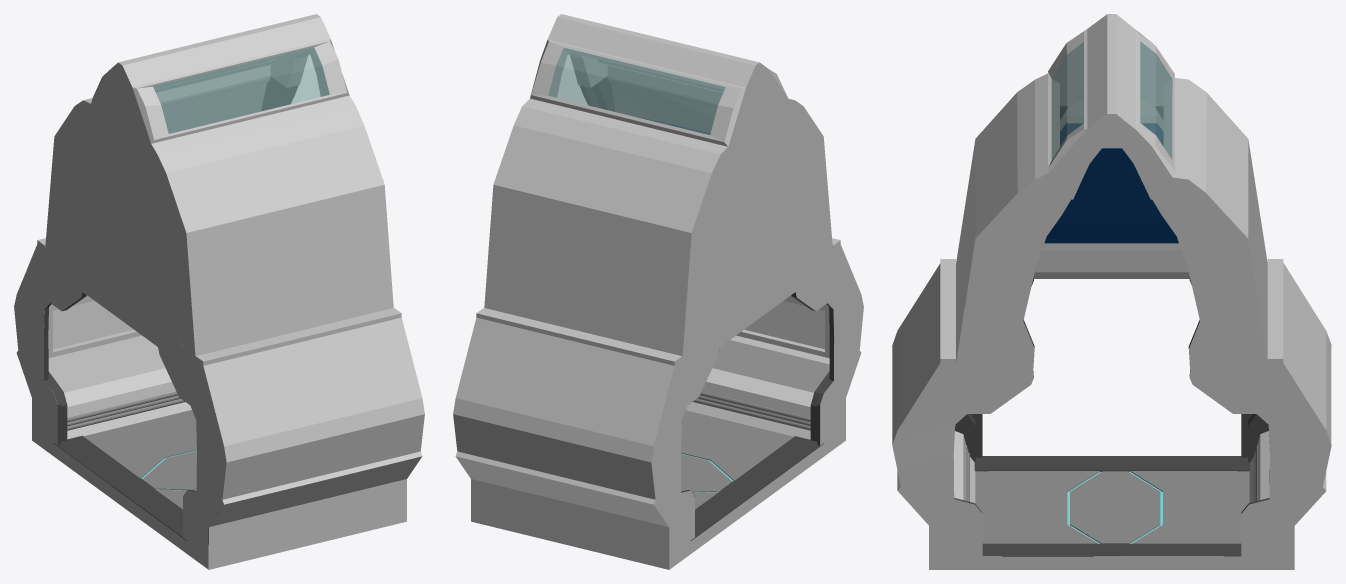
File: Hallway_A_Tall_End.fbx
3 views of the same model, side by side, from view 1: azimuth 30°, elevation 25°; view 2: azimuth 150°, elevation 25°; view 3: azimuth 270°, elevation 25° (orthographic). The views are drawn at different scales.
Visible parts, largest first — view 1: polySurface84, Hallway_Fill_A, polySurface68, FloorHallway13, polySurface76, polySurface81, polySurface67, polySurface80, polySurface71, polySurface70, polySurface69; view 2: polySurface84, Hallway_Fill_A, polySurface59, FloorHallway13, polySurface76, polySurface78, polySurface58, polySurface77, polySurface62, polySurface61, polySurface60; view 3: Hallway_Fill_A1, polySurface84, FloorHallway13, polySurface83, polySurface76, polySurface59, polySurface68, polySurface58, polySurface67.
Boxes of the visible parts, x1=… form: polySurface84: x1=37, y1=14, x2=424, y2=569; Hallway_Fill_A: x1=14, y1=242, x2=226, y2=569; polySurface68: x1=48, y1=295, x2=191, y2=439; FloorHallway13: x1=53, y1=410, x2=196, y2=540; polySurface76: x1=153, y1=47, x2=329, y2=133; polySurface81: x1=160, y1=76, x2=269, y2=133; polySurface67: x1=44, y1=292, x2=86, y2=445; polySurface80: x1=261, y1=76, x2=298, y2=111; polySurface71: x1=67, y1=398, x2=184, y2=430; polySurface70: x1=67, y1=391, x2=177, y2=422; polySurface69: x1=67, y1=395, x2=180, y2=426; polySurface84: x1=453, y1=14, x2=840, y2=569; Hallway_Fill_A: x1=651, y1=242, x2=863, y2=569; polySurface59: x1=686, y1=295, x2=829, y2=439; FloorHallway13: x1=681, y1=410, x2=824, y2=540; polySurface76: x1=548, y1=47, x2=725, y2=134; polySurface78: x1=608, y1=76, x2=718, y2=132; polySurface58: x1=791, y1=292, x2=833, y2=445; polySurface77: x1=580, y1=76, x2=614, y2=111; polySurface62: x1=693, y1=398, x2=810, y2=430; polySurface61: x1=700, y1=391, x2=810, y2=422; polySurface60: x1=697, y1=395, x2=810, y2=426; Hallway_Fill_A1: x1=892, y1=114, x2=1331, y2=569; polySurface84: x1=892, y1=14, x2=1331, y2=525; FloorHallway13: x1=974, y1=456, x2=1249, y2=556; polySurface83: x1=1033, y1=101, x2=1190, y2=280; polySurface76: x1=1051, y1=42, x2=1172, y2=190; polySurface59: x1=953, y1=307, x2=975, y2=503; polySurface68: x1=1249, y1=431, x2=1269, y2=502; polySurface58: x1=955, y1=280, x2=1033, y2=462; polySurface67: x1=1190, y1=280, x2=1268, y2=462.
Size of the model in its own units: 3.01 by 5.57 by 6.38.
